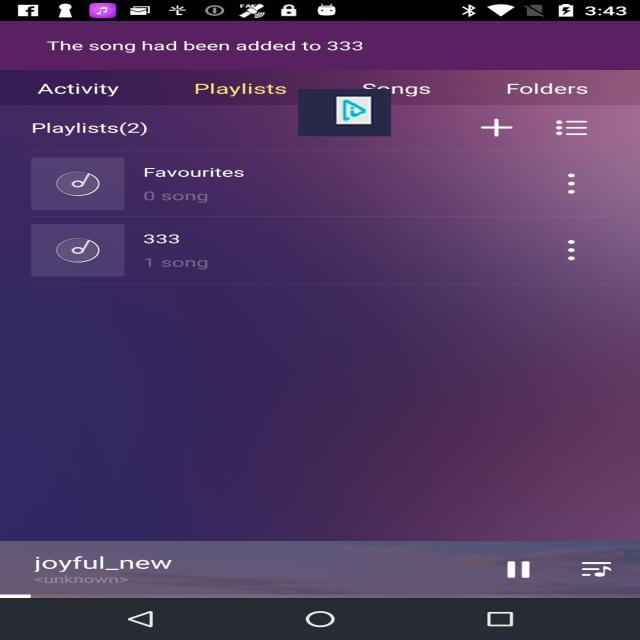sneaking: (298, 89, 391, 136)
